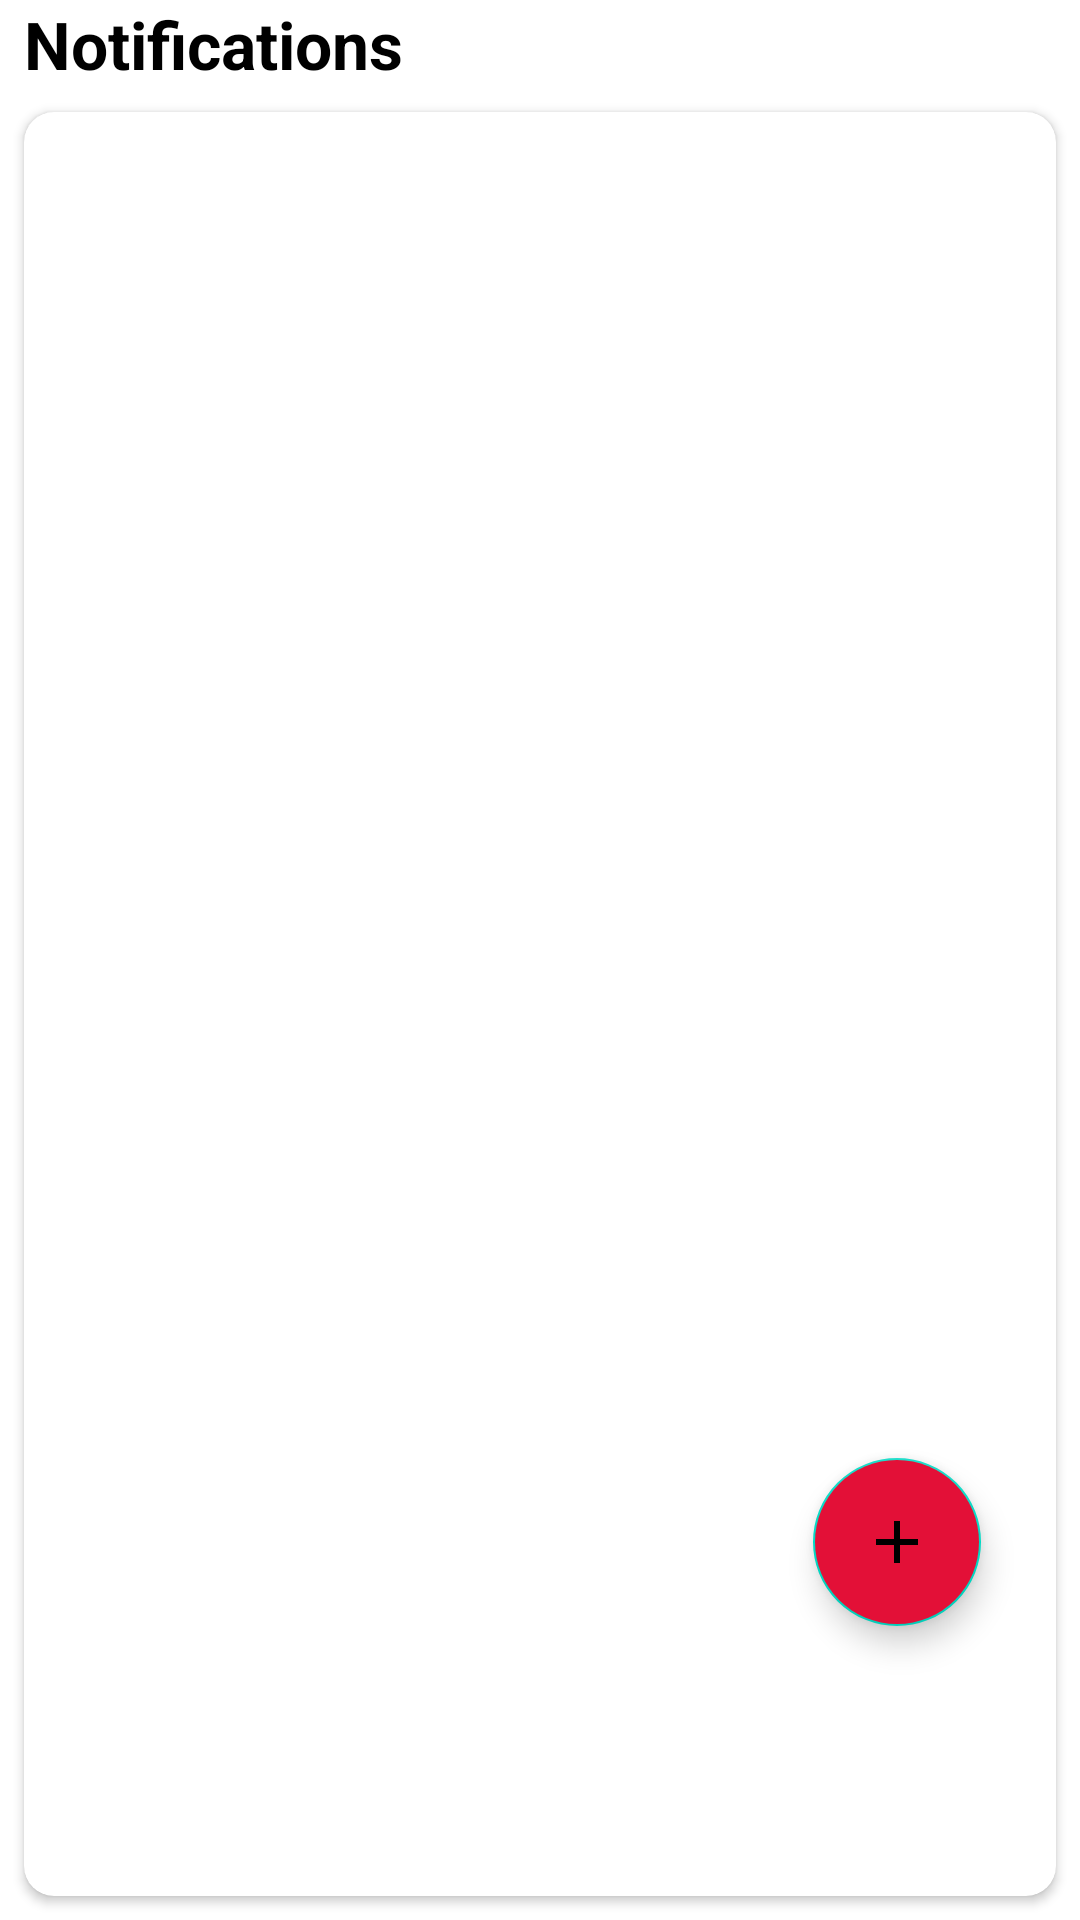

Named icons in this screenshot (1080px x 1920px) and their centers, [x,y]:
add: [897,1542]
